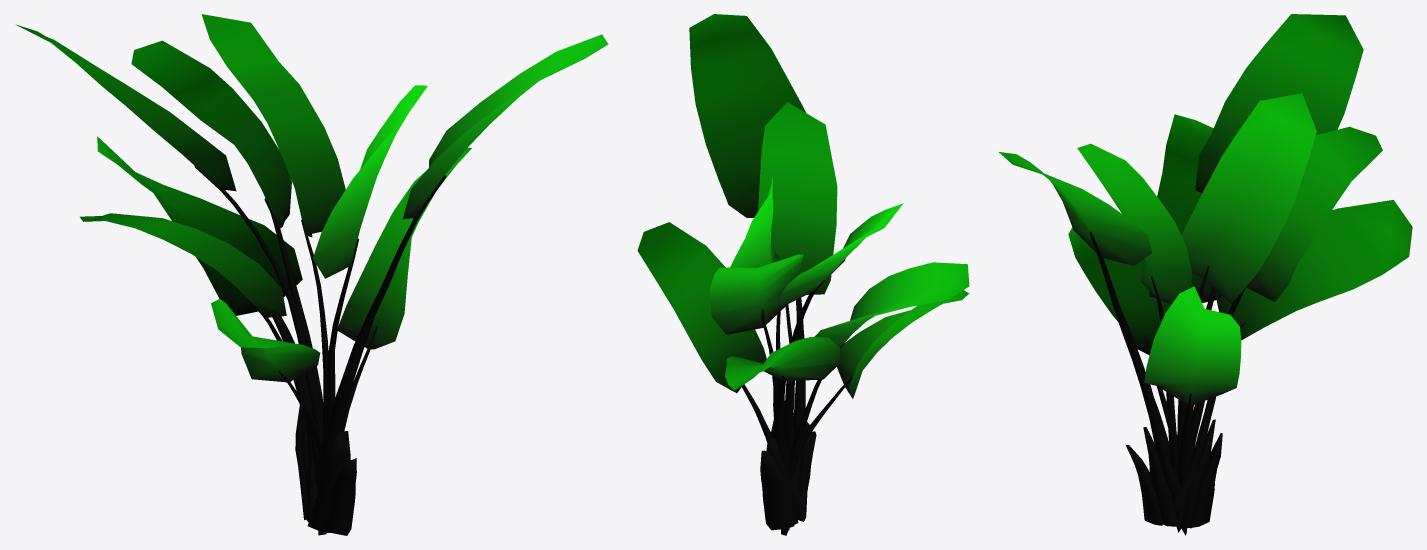
The picture shows the model from 3 angles, left to right: view 1: azimuth 30°, elevation 25°; view 2: azimuth 150°, elevation 25°; view 3: azimuth 270°, elevation 25°; orthographic projection. The views are drawn at different scales.
Parts seen in each view (by area): view 1: SM_TR_Ravenala_3m_HD; view 2: SM_TR_Ravenala_3m_HD; view 3: SM_TR_Ravenala_3m_HD.
Boxes of the visible parts, <box> form: SM_TR_Ravenala_3m_HD: <box>16,14,608,535</box>; SM_TR_Ravenala_3m_HD: <box>637,14,969,535</box>; SM_TR_Ravenala_3m_HD: <box>999,14,1412,535</box>.
Size of the model in its own units: 98.27 by 102 by 117.
